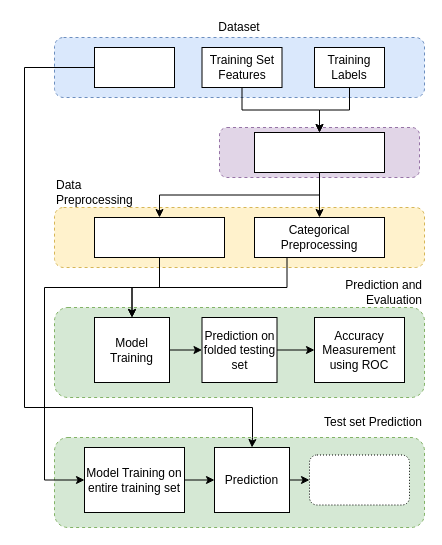
This 442x545 diagram has some shape labels left out. Here are the shapes that lost their labels. From the top down, the centre of each, then its label:
the point at 134,67: Test Set Features
the point at 319,152: Split into train and test set
the point at 159,237: Numerical Preprocessing
the point at 359,479: Test Set Predicted Probabilities
